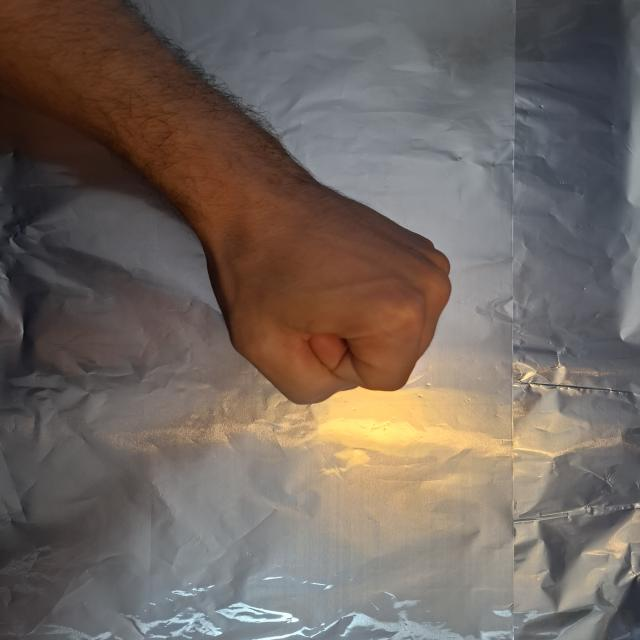glove_off: (196, 178, 454, 406)
